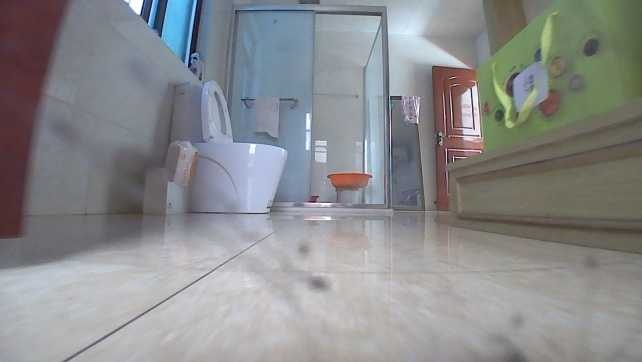door_anno: (427, 60, 485, 215)
toilet: (167, 79, 289, 218)
